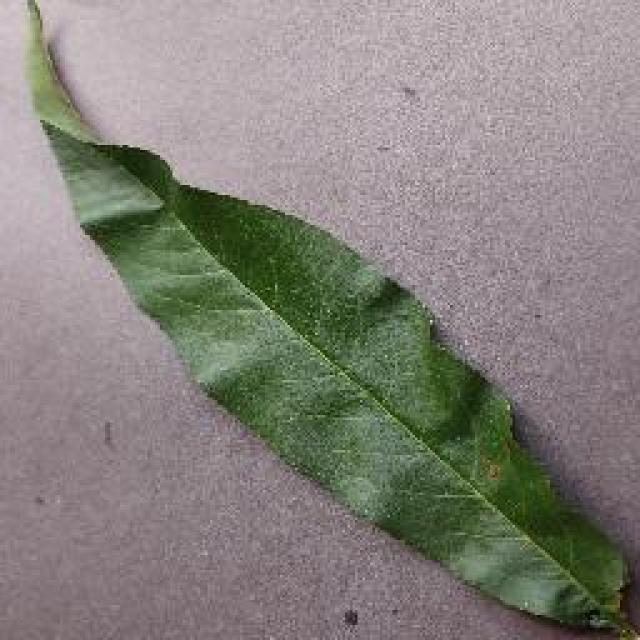Peach_Bacterial_Spot: (377, 402, 625, 640)
